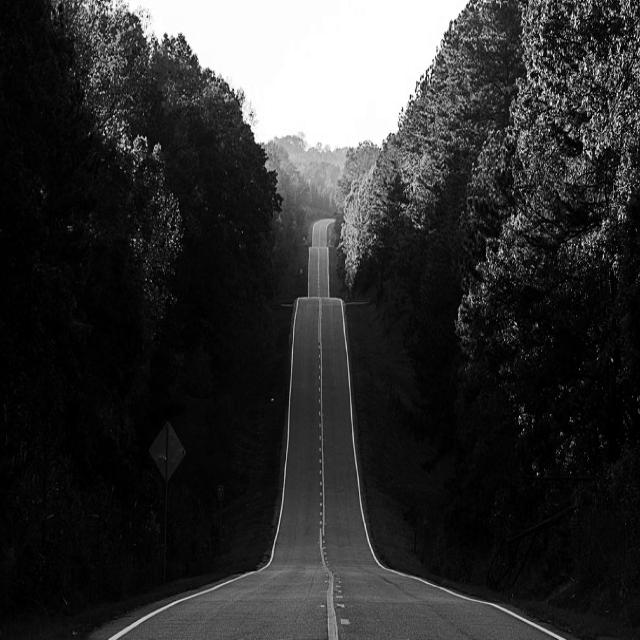cleat: (185, 96, 640, 640)
